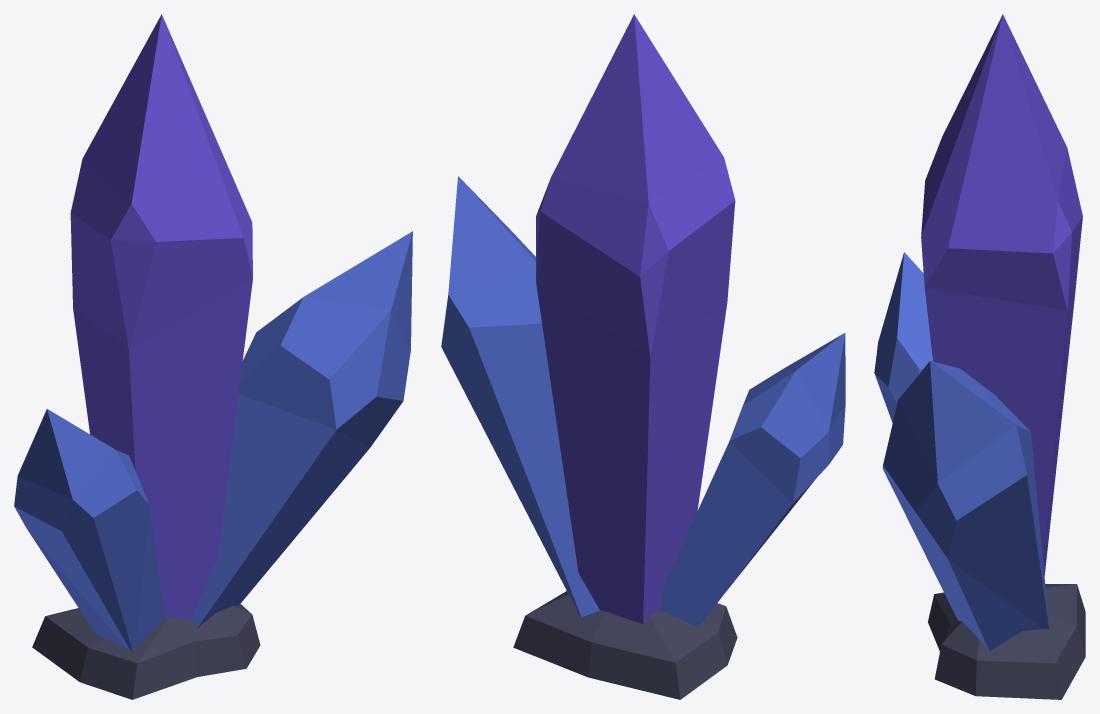
The model's file is Cristal.fbx.
The picture shows the model from 3 angles, left to right: view 1: azimuth 30°, elevation 25°; view 2: azimuth 150°, elevation 25°; view 3: azimuth 270°, elevation 25°; orthographic projection.
Visible parts, largest first — view 1: Cristal; view 2: Cristal; view 3: Cristal.
Boxes of the visible parts, <box> form: Cristal: <box>14,14,412,699</box>; Cristal: <box>441,14,845,699</box>; Cristal: <box>874,14,1085,699</box>.
Size of the model in its own units: 91.13 by 144 by 42.96.
